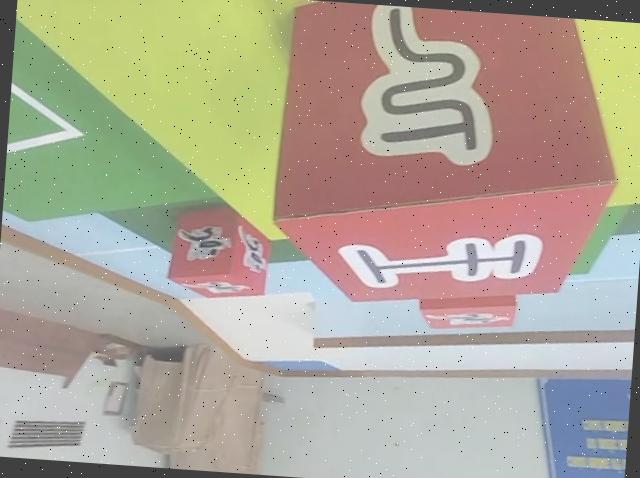R1: (163, 193, 274, 308)
R2 Fake: (261, 0, 630, 325)
